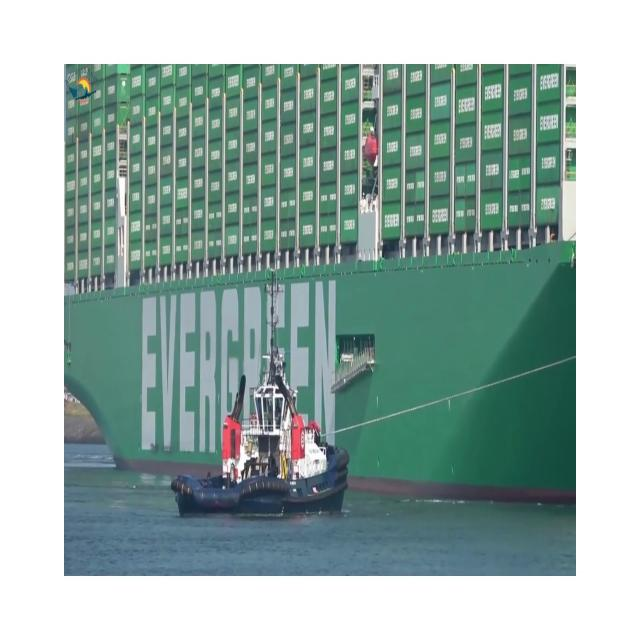OCR: (130, 277, 346, 471)
